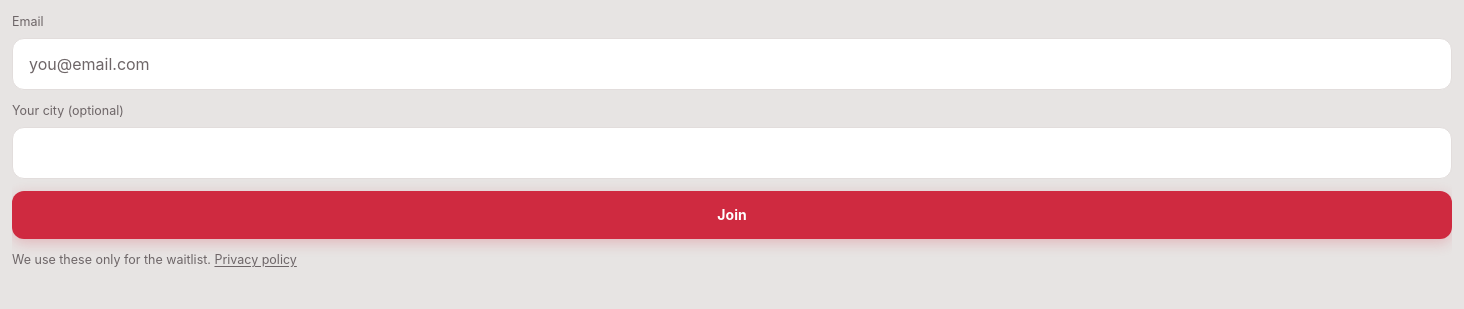
Test case: WaitlistForm › puts the API's validation error on the email
Type "priya@example.com" into the field labelled "Email".
click(732, 64); type("priya@example.com")  # box [12,38,1452,90]
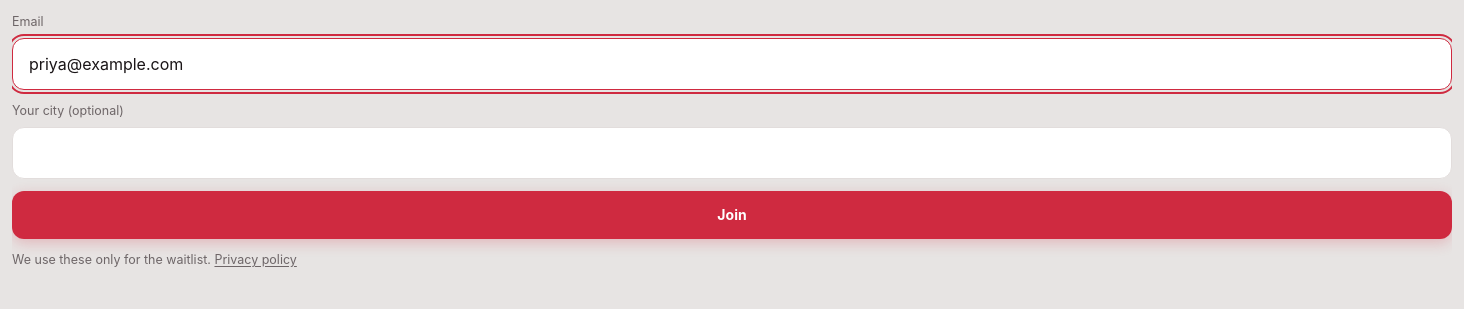
Click the button "Join".
click(732, 215)  # box [12,191,1452,239]
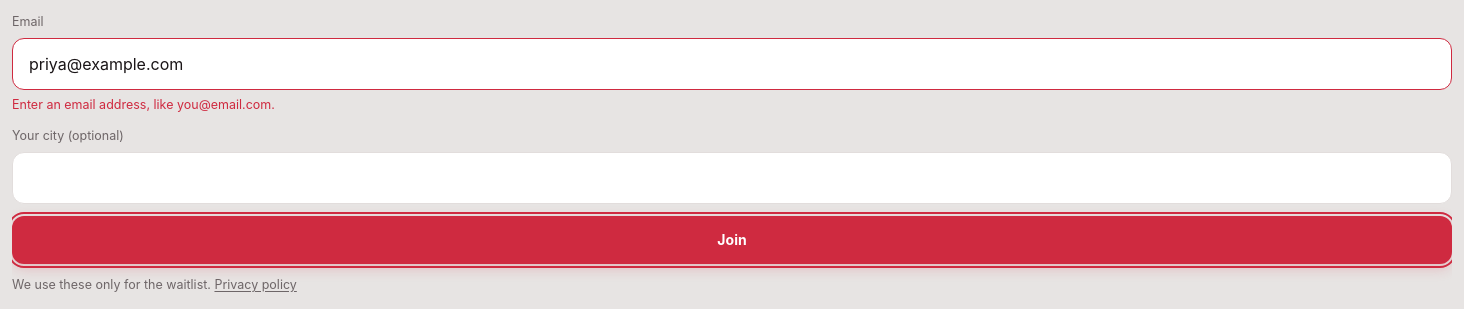
Expected: the text "Enter an email address, like you@email.com." is shown, [12,96,275,115]
